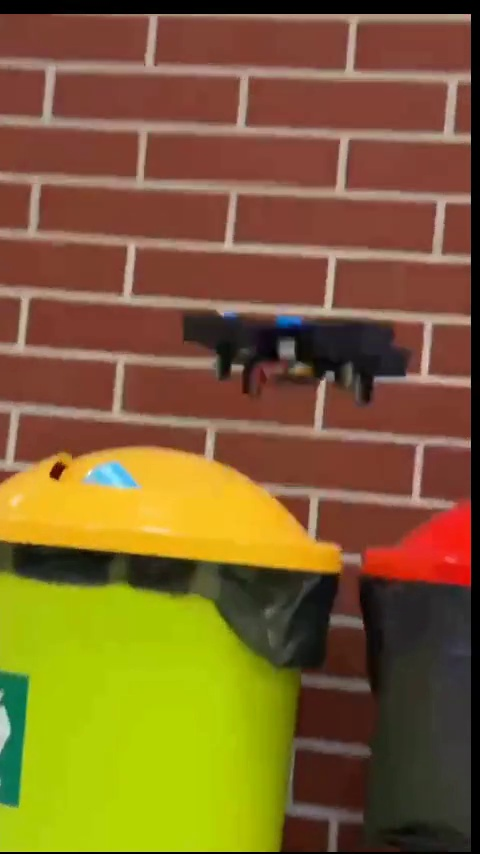drone: (180, 316, 414, 400)
